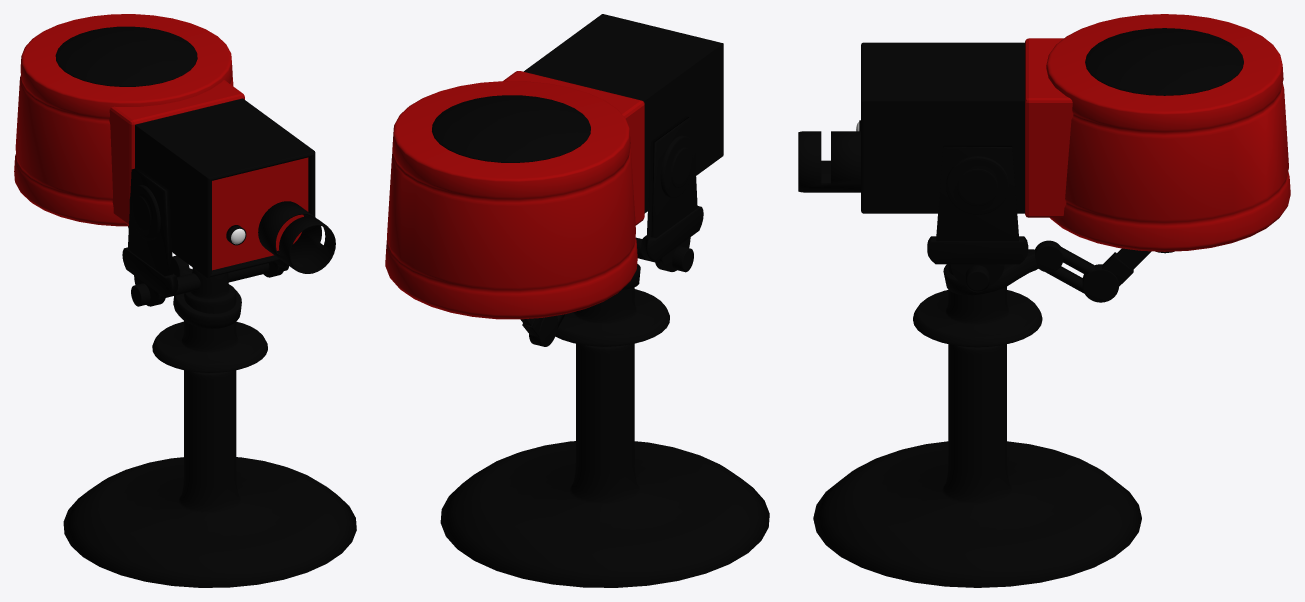
The model's file is TF2 sentry4.fbx.
The picture shows the model from 3 angles, left to right: view 1: azimuth 30°, elevation 25°; view 2: azimuth 150°, elevation 25°; view 3: azimuth 270°, elevation 25°; orthographic projection. The views are drawn at different scales.
Parts seen in each view (by area): view 1: Cylinder, Cube.003, Cylinder.008, Sphere, Cylinder.015, Cube.001, Cylinder.007, Cylinder.014, Cylinder.001, Cylinder.005; view 2: Cylinder, Cylinder.008, Cube.003, Sphere, Cube.001, Cylinder.007, Cylinder.005, Cylinder.001, Cylinder.012; view 3: Cylinder, Cylinder.008, Cube.003, Sphere, Cube, Cylinder.015, Cylinder.006, Cylinder.004, Cylinder.014, Cylinder.012, Cube.004, Cylinder.013.
Boxes of the visible parts, x1,y1,x2,y2 form: Cylinder: [63, 267, 356, 587]; Cube.003: [109, 80, 315, 277]; Cylinder.008: [14, 14, 233, 226]; Sphere: [55, 26, 197, 86]; Cylinder.015: [258, 201, 335, 273]; Cube.001: [128, 167, 172, 276]; Cylinder.007: [129, 185, 160, 240]; Cylinder.014: [173, 268, 241, 328]; Cylinder.001: [131, 263, 288, 306]; Cylinder.005: [122, 247, 178, 296]; Cylinder: [440, 287, 769, 587]; Cylinder.008: [385, 81, 637, 319]; Cube.003: [503, 14, 723, 225]; Sphere: [432, 95, 590, 162]; Cube.001: [646, 116, 697, 238]; Cylinder.007: [660, 135, 695, 197]; Cylinder.005: [641, 206, 703, 261]; Cylinder.001: [636, 237, 693, 272]; Cylinder.012: [529, 315, 557, 346]; Cylinder: [813, 264, 1141, 587]; Cylinder.008: [1046, 14, 1290, 251]; Cube.003: [861, 38, 1073, 217]; Sphere: [1085, 28, 1243, 95]; Cube: [936, 145, 1018, 241]; Cylinder.015: [798, 131, 860, 192]; Cylinder.006: [946, 156, 1008, 214]; Cylinder.004: [927, 236, 1028, 264]; Cylinder.014: [943, 249, 1038, 295]; Cylinder.012: [1082, 264, 1118, 302]; Cube.004: [1102, 248, 1151, 286]; Cylinder.013: [1035, 240, 1063, 272].
Size of the model in its own units: 118 by 186 by 177.
